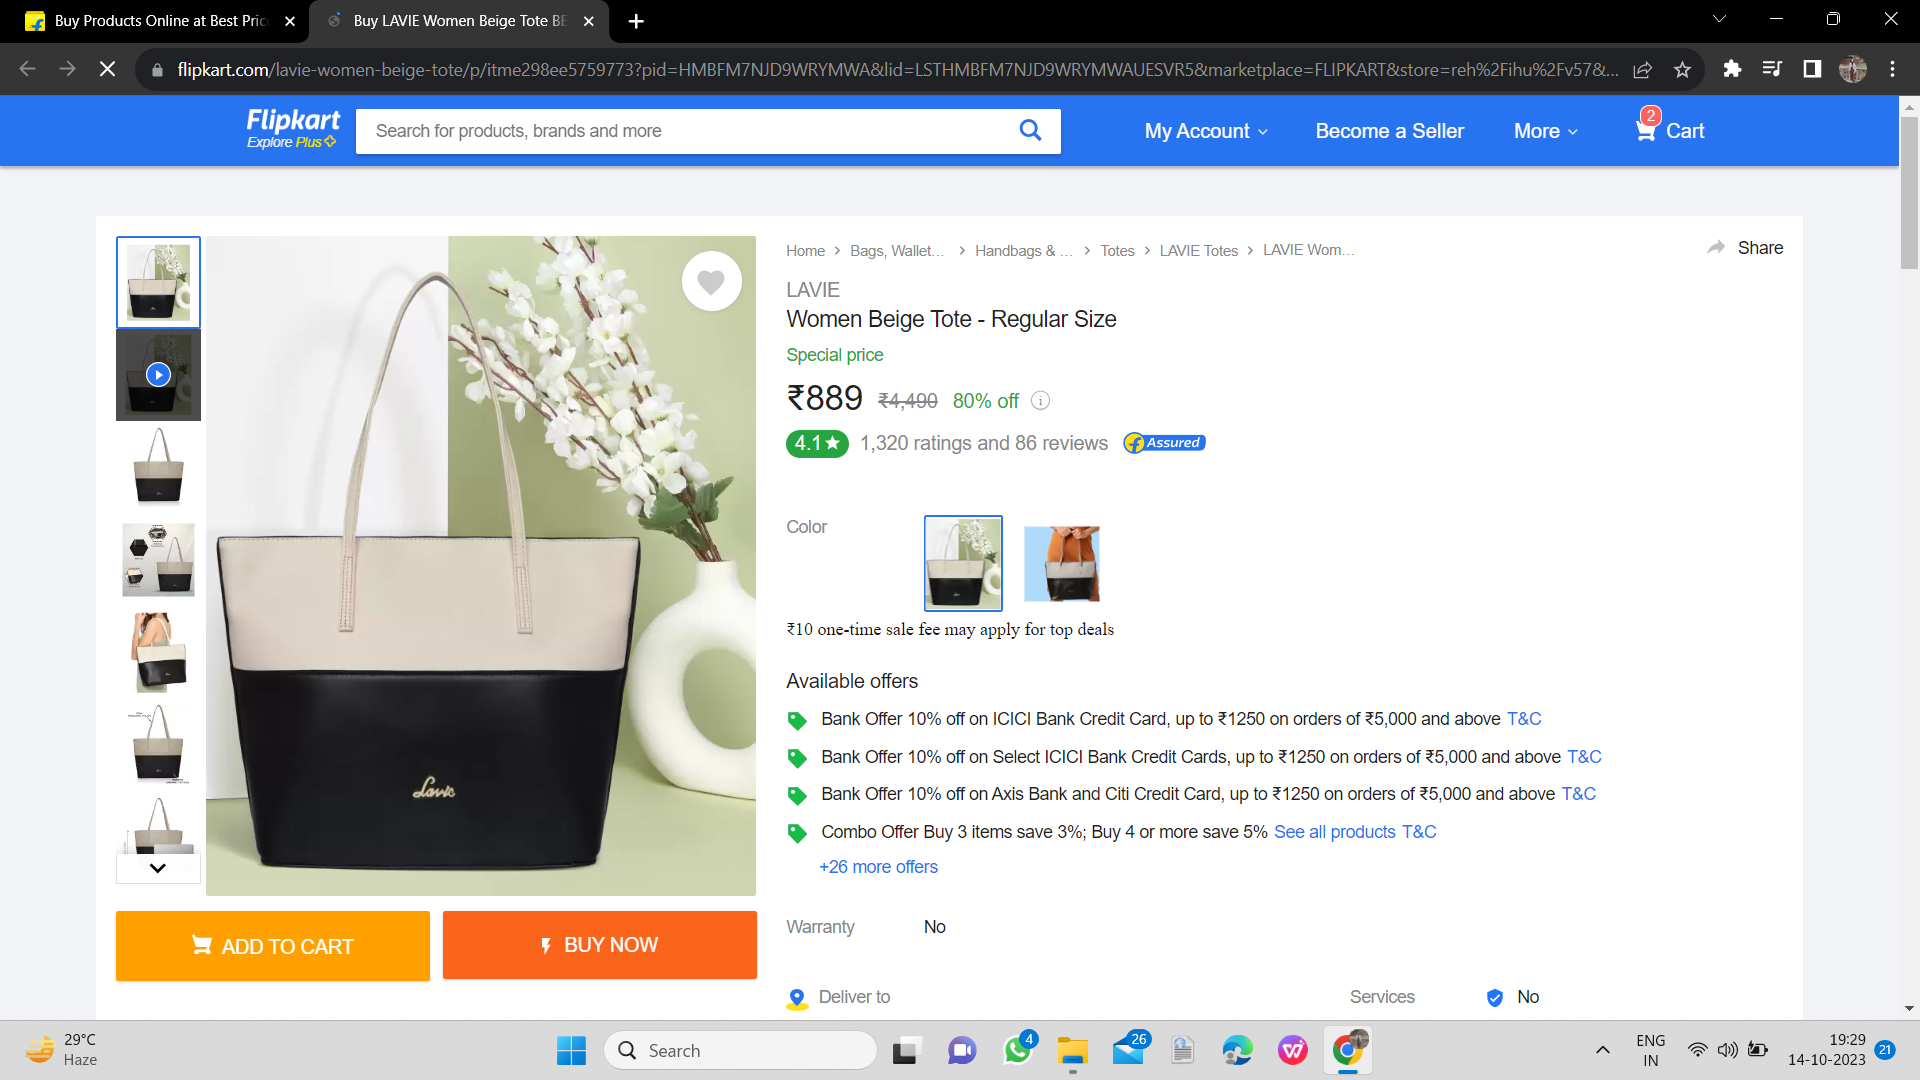Image: (207, 248, 749, 890), (903, 506, 1127, 617)
Paragraph: (775, 709, 1642, 882), (99, 890, 766, 990), (782, 269, 1127, 338), (773, 421, 1224, 468), (1120, 113, 1717, 149), (775, 344, 1034, 417), (775, 609, 1124, 649), (237, 103, 345, 165), (782, 669, 938, 707), (1696, 224, 1803, 269), (779, 916, 963, 942), (782, 506, 837, 549)
